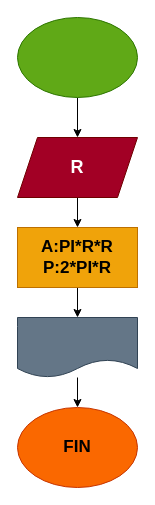
Some shapes in this 155 by 505 pixel diagram are drawn without their labels. The shapes that lost their labels are listed below. From the top down, each one's centre as x and y in pixels, then its label:
At (x=77, y=57): "Inicio".
At (x=77, y=347): "A*P".
